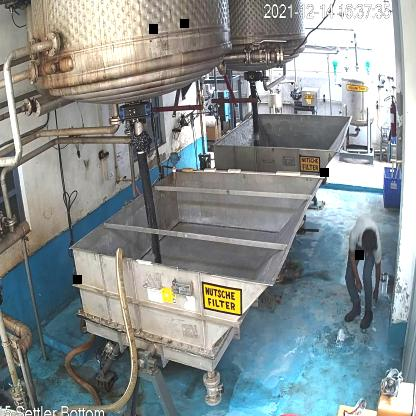shoes: (342, 300, 364, 324), (358, 307, 375, 333)
